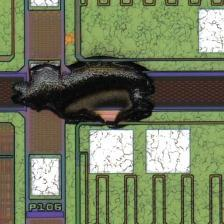BLOCK ETCH: (6, 54, 162, 131)
